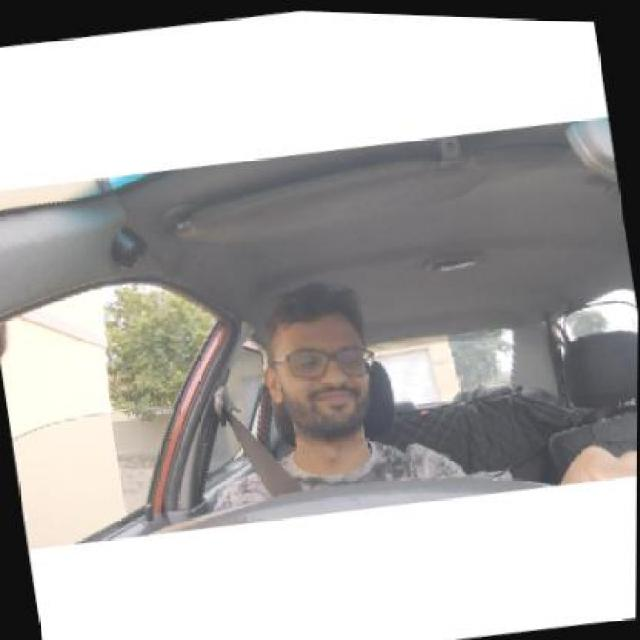person: (256, 284, 383, 445)
